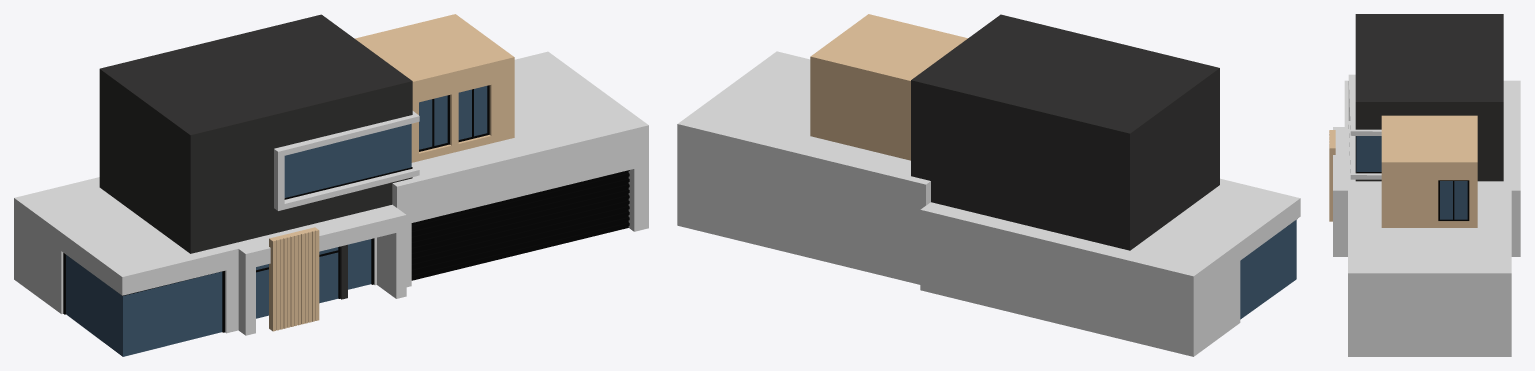
The model's file is Modern5.fbx.
3 renders of one model, left to right at view 1: azimuth 30°, elevation 25°; view 2: azimuth 150°, elevation 25°; view 3: azimuth 270°, elevation 25°, orthographic. The views are drawn at different scales.
Parts seen in each view (by area): view 1: Modern5_Concrete, Modern5_ConcreteB, Modern5_Windows, Modern5_Wood, Modern5_Garage, Modern5_Frame; view 2: Modern5_Concrete, Modern5_ConcreteB, Modern5_Wood, Modern5_Windows; view 3: Modern5_Concrete, Modern5_ConcreteB, Modern5_Wood, Modern5_Windows, Modern5_Frame.
Part boxes in pixels (x1,y1,x2,y2): Modern5_Concrete: (14,51,648,335); Modern5_ConcreteB: (99,14,412,299); Modern5_Windows: (66,86,487,356); Modern5_Wood: (269,14,514,331); Modern5_Garage: (411,170,629,280); Modern5_Frame: (63,85,489,332); Modern5_Concrete: (677,51,1300,356); Modern5_ConcreteB: (911,14,1219,250); Modern5_Wood: (810,14,967,160); Modern5_Windows: (1240,220,1296,319); Modern5_Concrete: (1333,74,1520,356); Modern5_ConcreteB: (1355,14,1503,181); Modern5_Wood: (1329,115,1477,227); Modern5_Windows: (1356,136,1467,219); Modern5_Frame: (1355,136,1469,221).
Size of the model in its own units: 2109 by 764 by 814.
